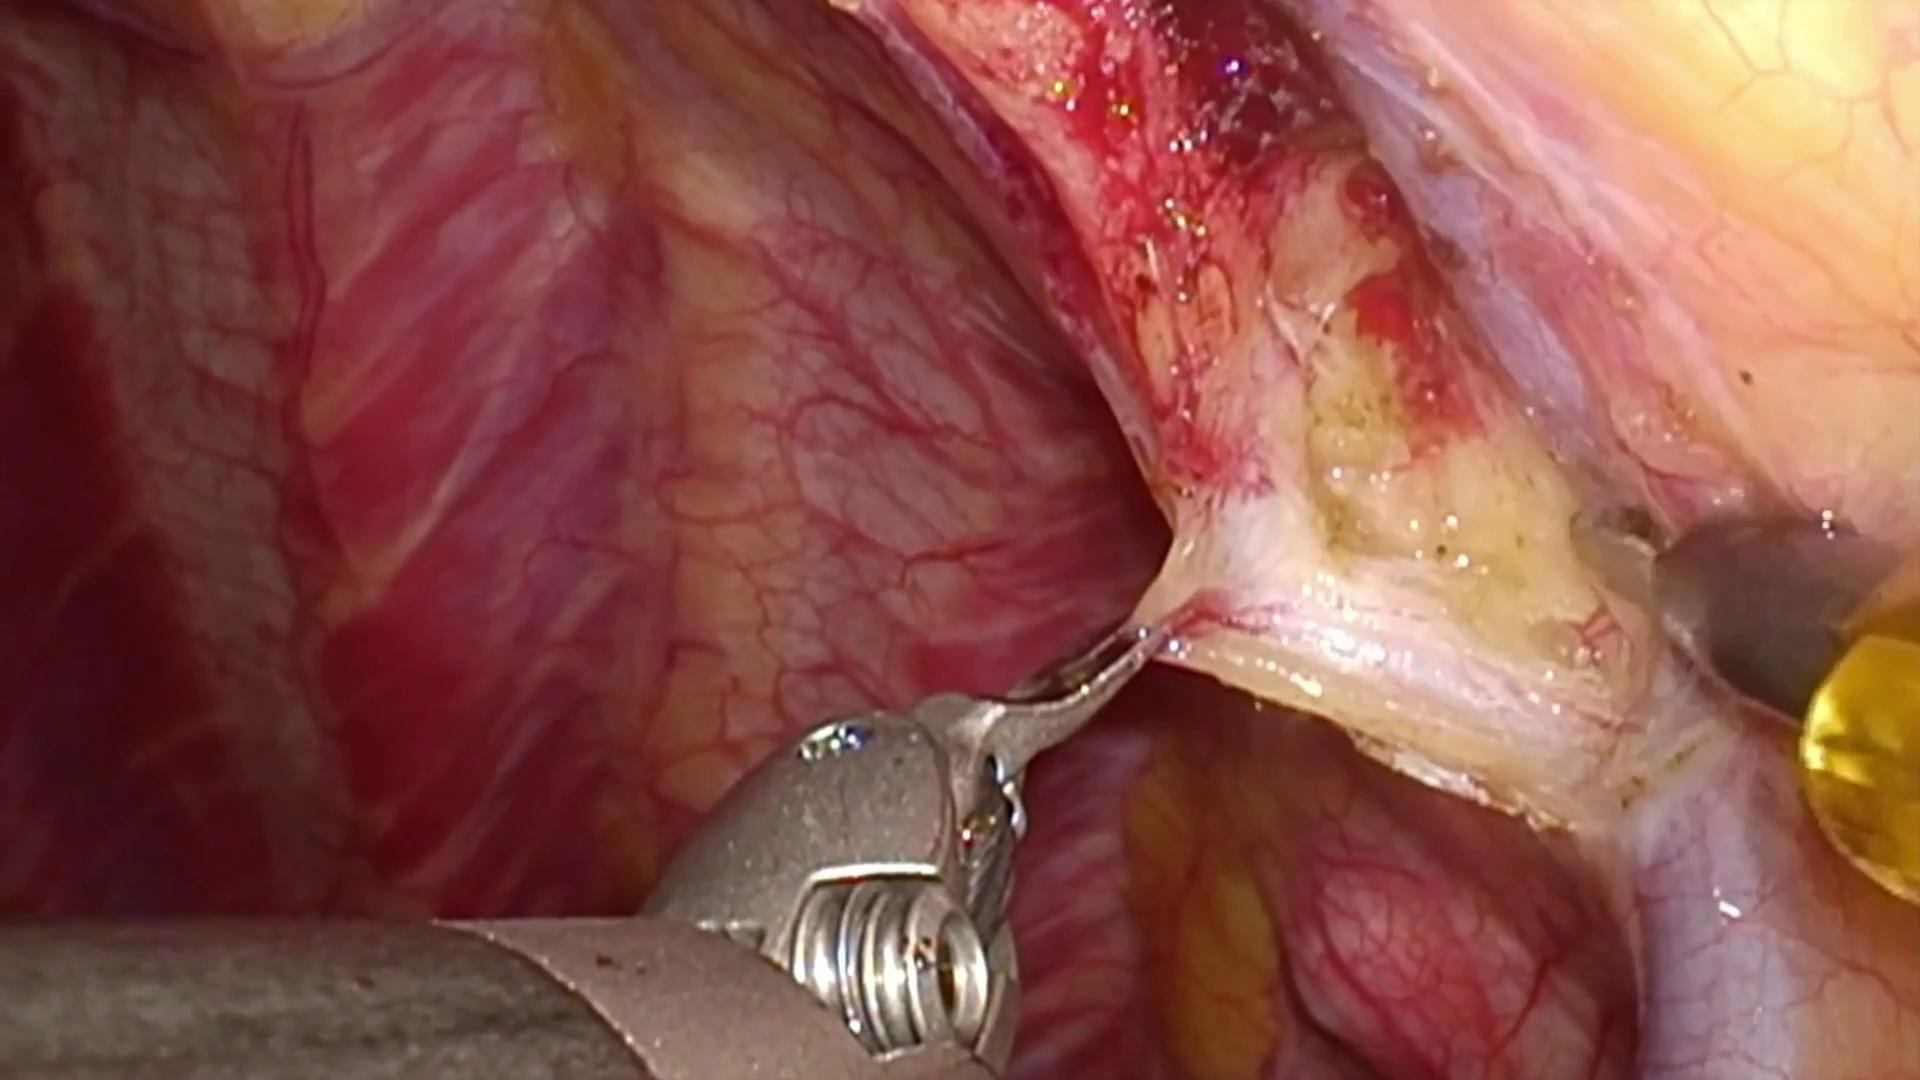Cautery_Spatula: (1572, 496, 1904, 717)
Debakey: (922, 608, 1168, 841)
